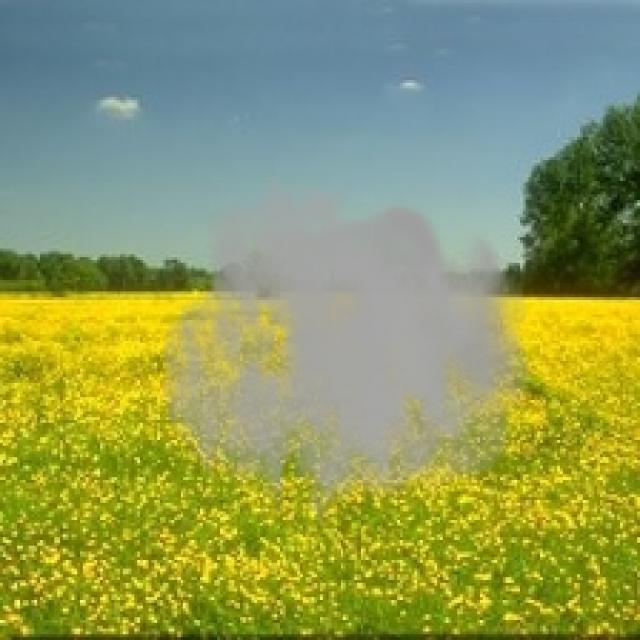smoke: (160, 171, 531, 543)
